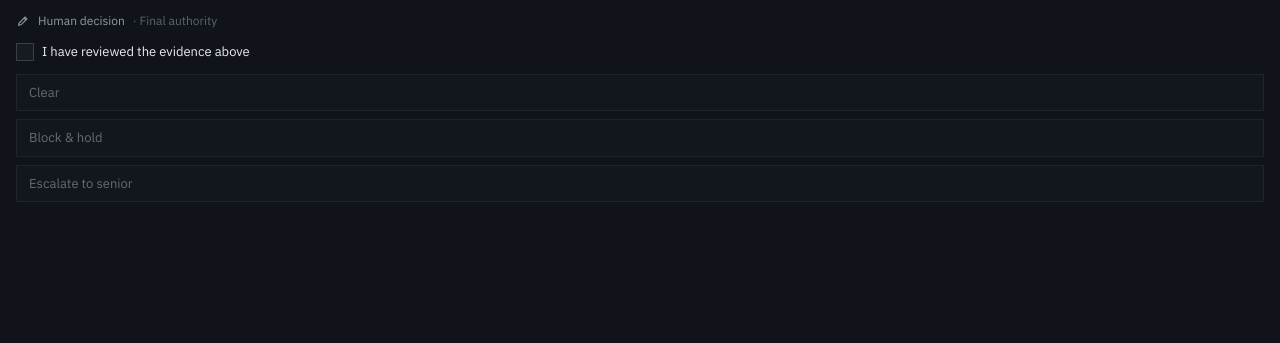
HumanDecisionPanel › requires selecting a senior before Escalate to senior can be confirmed
The width and height of the screenshot is (1280, 343).
Click the text "I have reviewed the evidence above" at (133, 52), box [16,43,250,61]
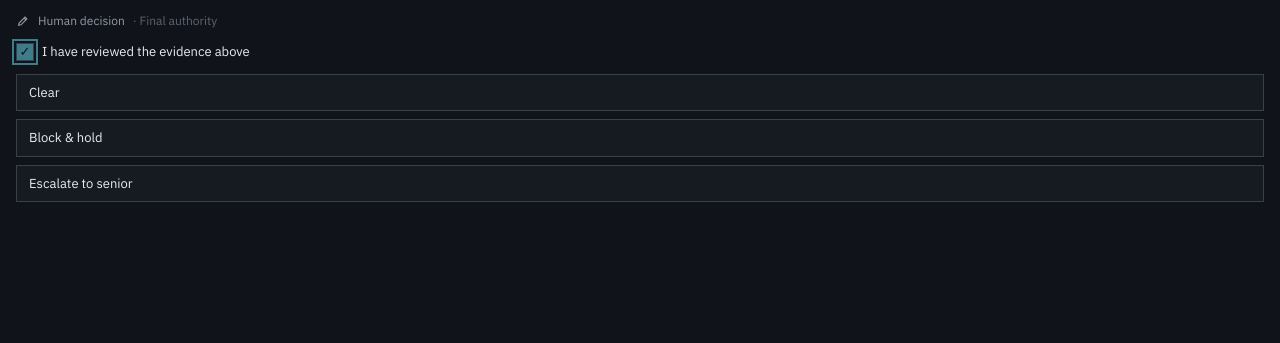
Click the button "Escalate to senior" at (81, 183), box [16,164,1264,202]
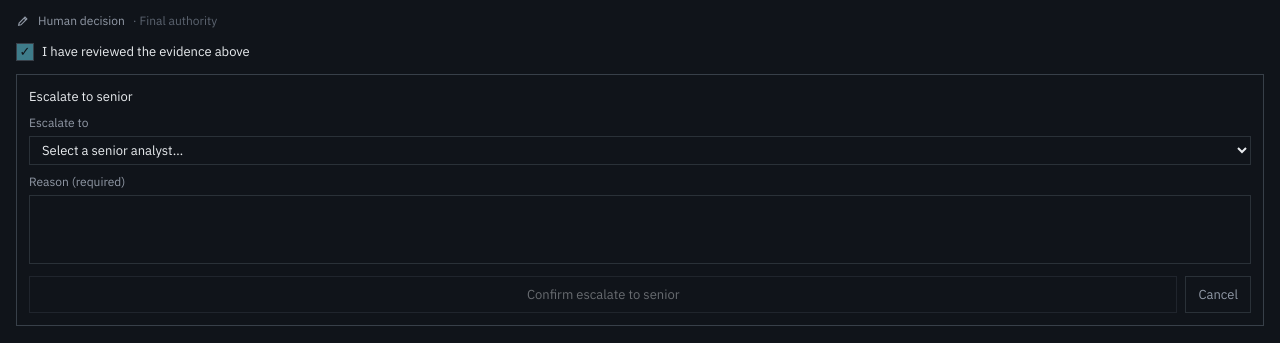
Type "Needs a second opinion" into the text box labelled "Reason (required)" at (640, 229), box [29,195,1251,264]
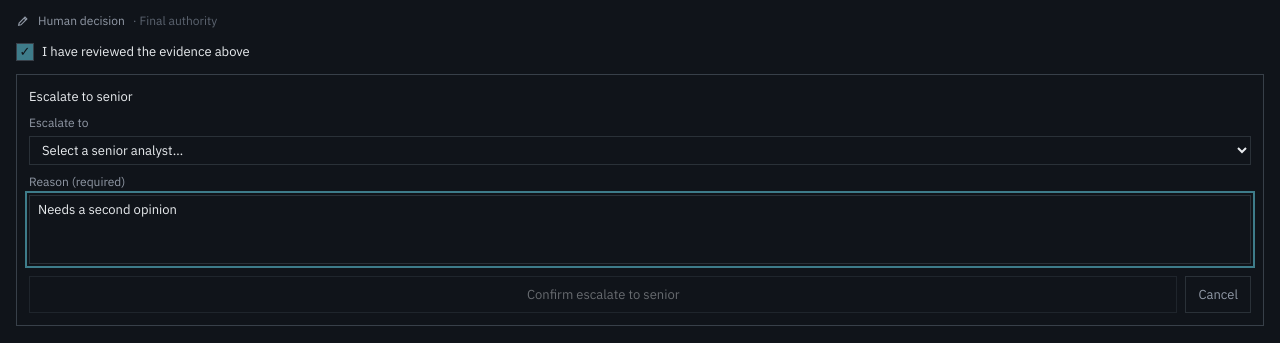
expect the button "Confirm escalate to senior" is disabled: met, box [29,276,1178,313]
Select "Elena Cho" in the dropdown labelled "Escalate to" at (640, 150), box [29,136,1251,165]
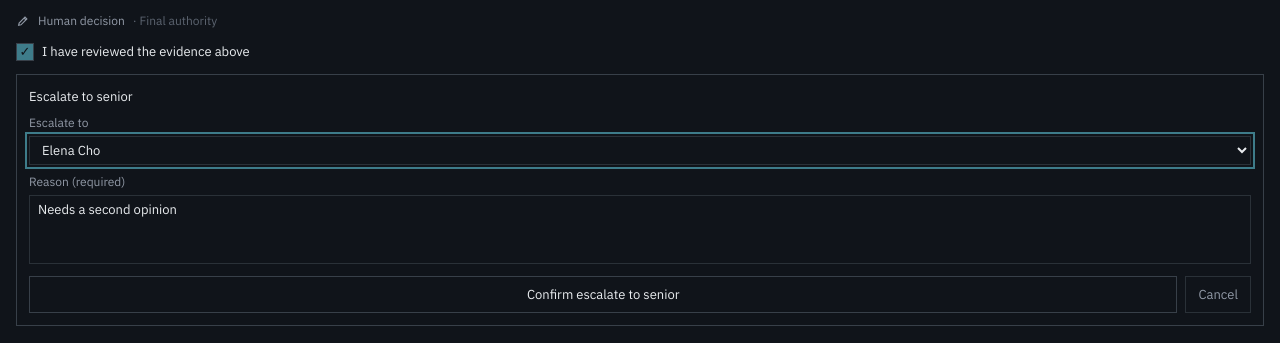
expect the button "Confirm escalate to senior" is enabled: met, box [29,276,1178,313]
